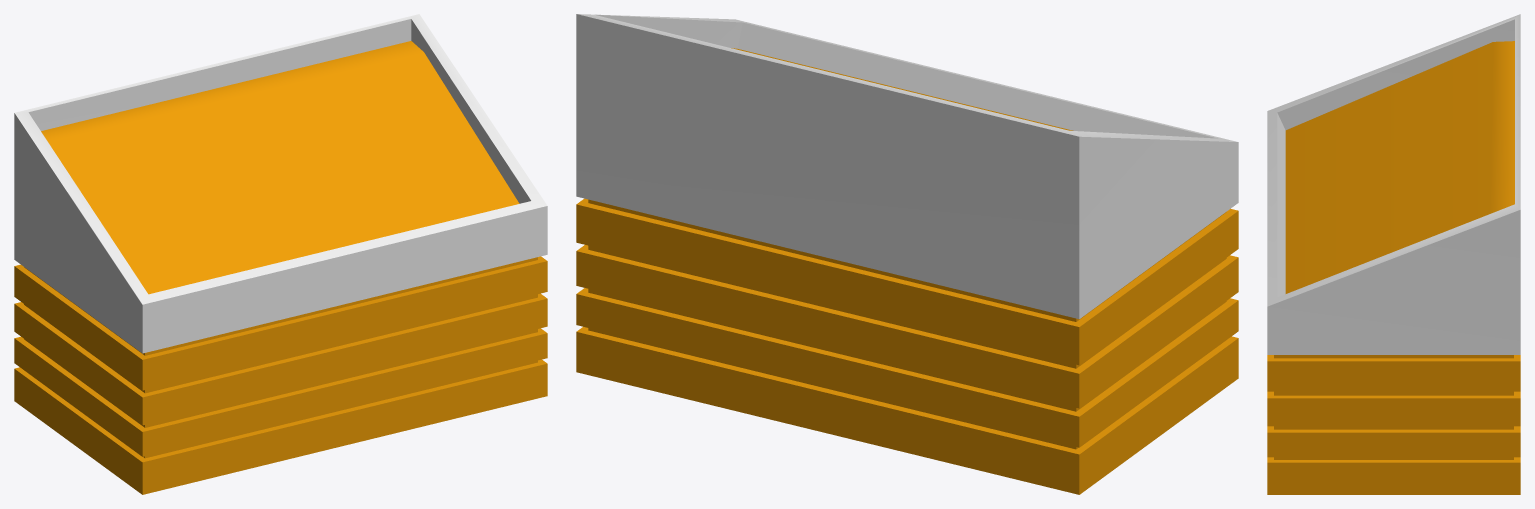
The model's file is Shelf3.fbx.
The picture shows the model from 3 angles, left to right: view 1: azimuth 30°, elevation 25°; view 2: azimuth 150°, elevation 25°; view 3: azimuth 270°, elevation 25°; orthographic projection. The views are drawn at different scales.
Visible parts, largest first — view 1: Shelf3; view 2: Shelf3; view 3: Shelf3.
Boxes of the visible parts, x1,y1,x2,y2 form: Shelf3: (14,14,547,494); Shelf3: (576,14,1238,494); Shelf3: (1267,14,1520,494).
Bounding box in the file's own units: 147 × 99.94 × 80.49.
